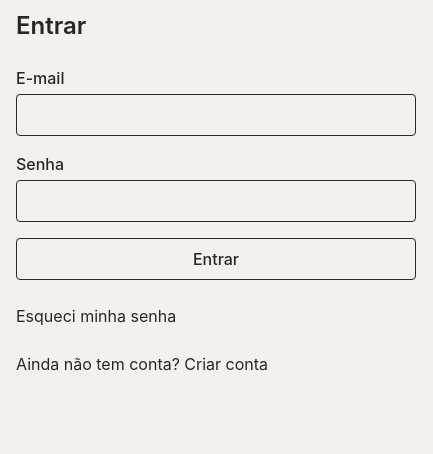
it: fluxo senha, código, entrada no app (AUTH-01, AUTH-04) › senha errada (401) mostra mensagem única, sem dizer se o e-mail existe
This screenshot has width=433, height=454.
Type "ana@exemplo.com.br" into the field labelled "E-mail" at (216, 115), box [16,94,416,136]
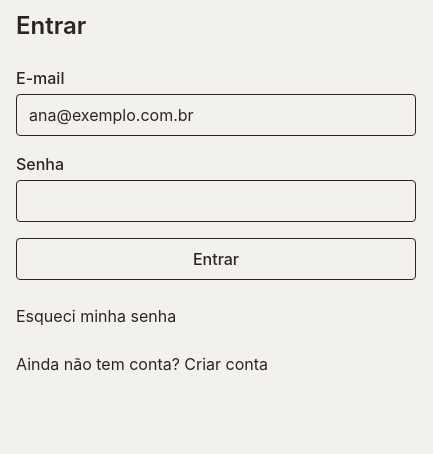
Type "errada-errada-1" into the password field labelled "Senha" at (216, 201), box [16,180,416,222]
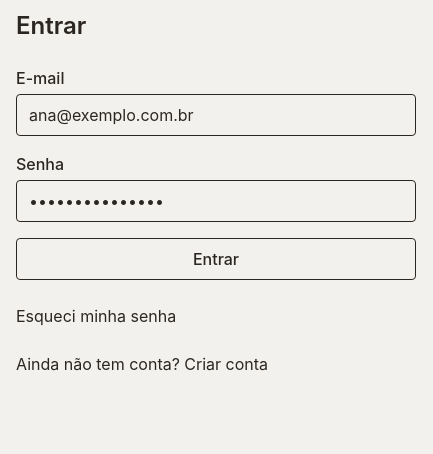
Click the button "Entrar" at (216, 259), box [16,238,416,280]
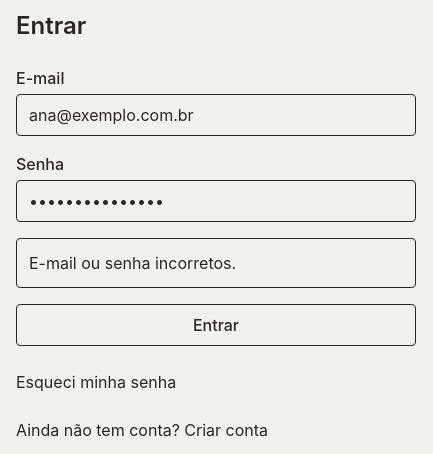
Result: the message shows "E-mail ou senha incorretos" at [29,253,236,273]
